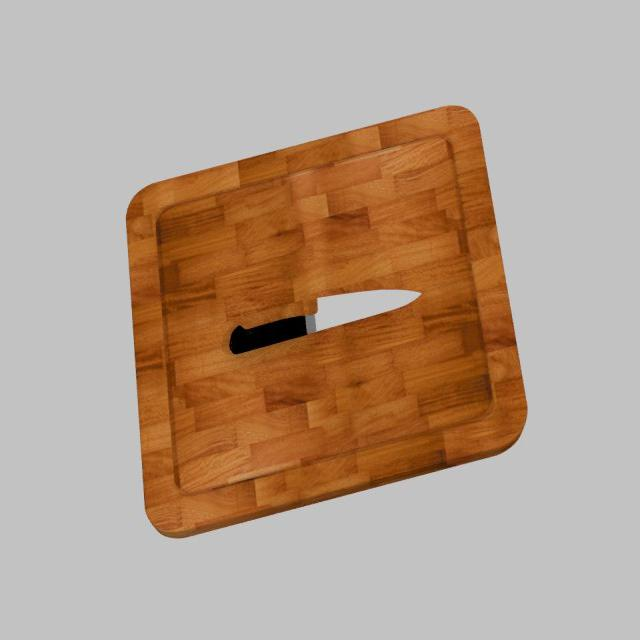knife: (229, 316, 308, 355)
